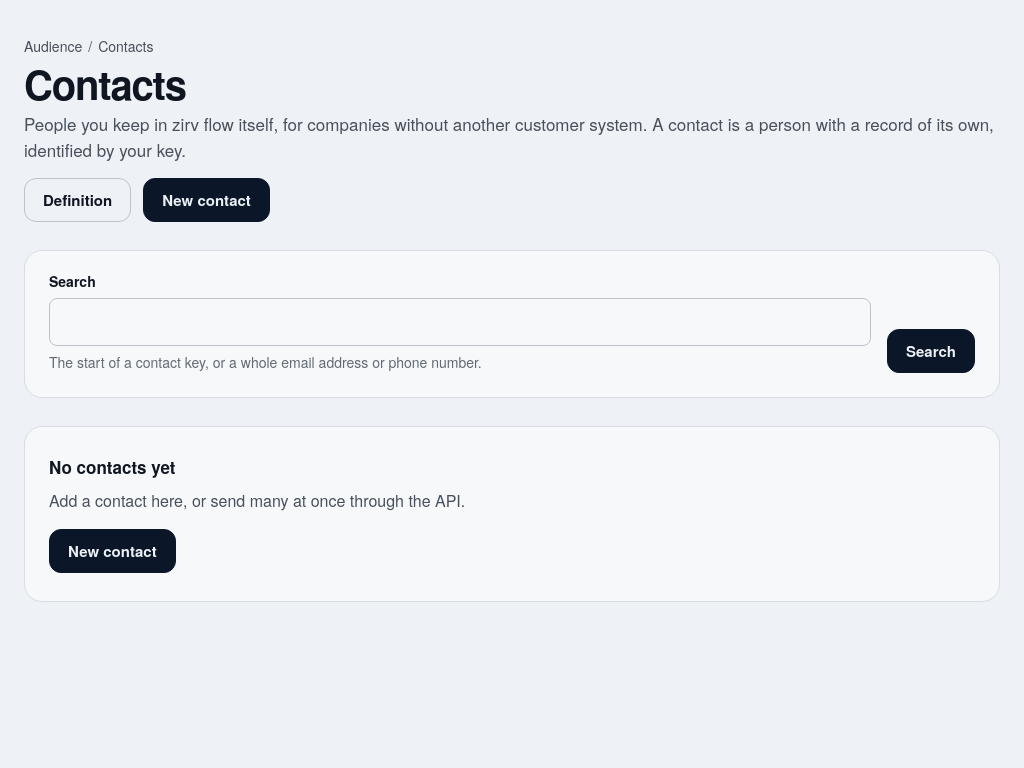
Test case: new contact form › is generated from the definition, with required markers and typed inputs
Click the button "New contact" next to "Definition".
click(207, 200)  # box [143,178,270,222]
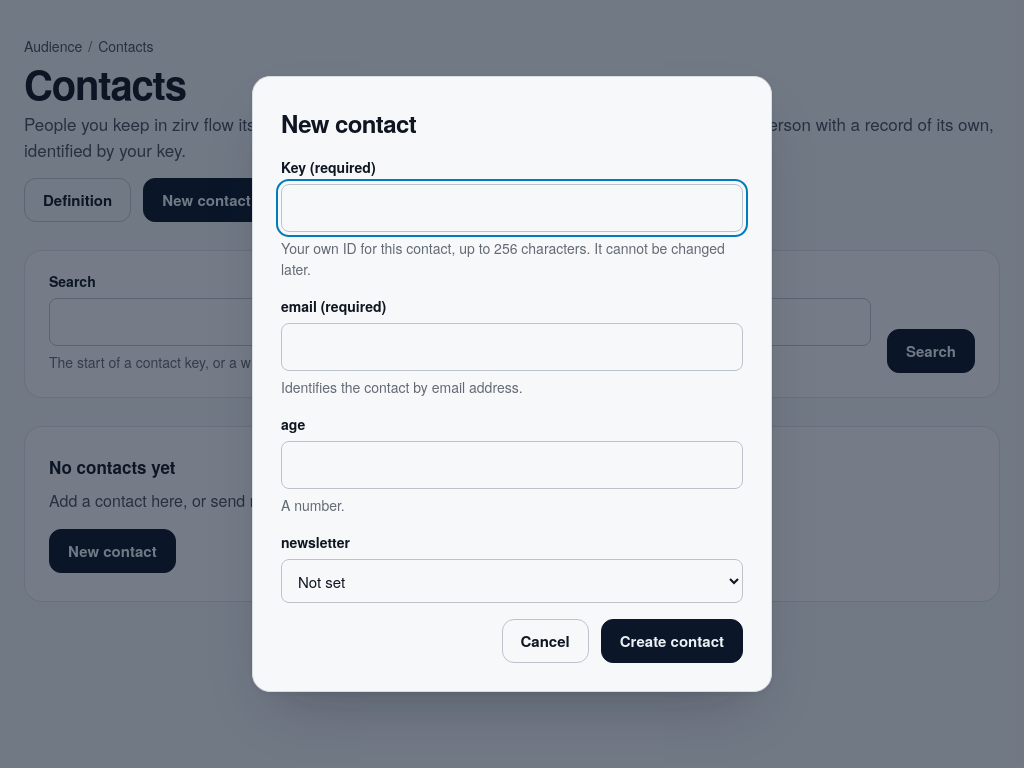
Now the field labelled "Key (required)" is shown, box [281,184,743,232]
Now the field labelled "email (required)" is shown, box [281,323,743,371]
Now the field labelled "age" is shown, box [281,441,743,489]
